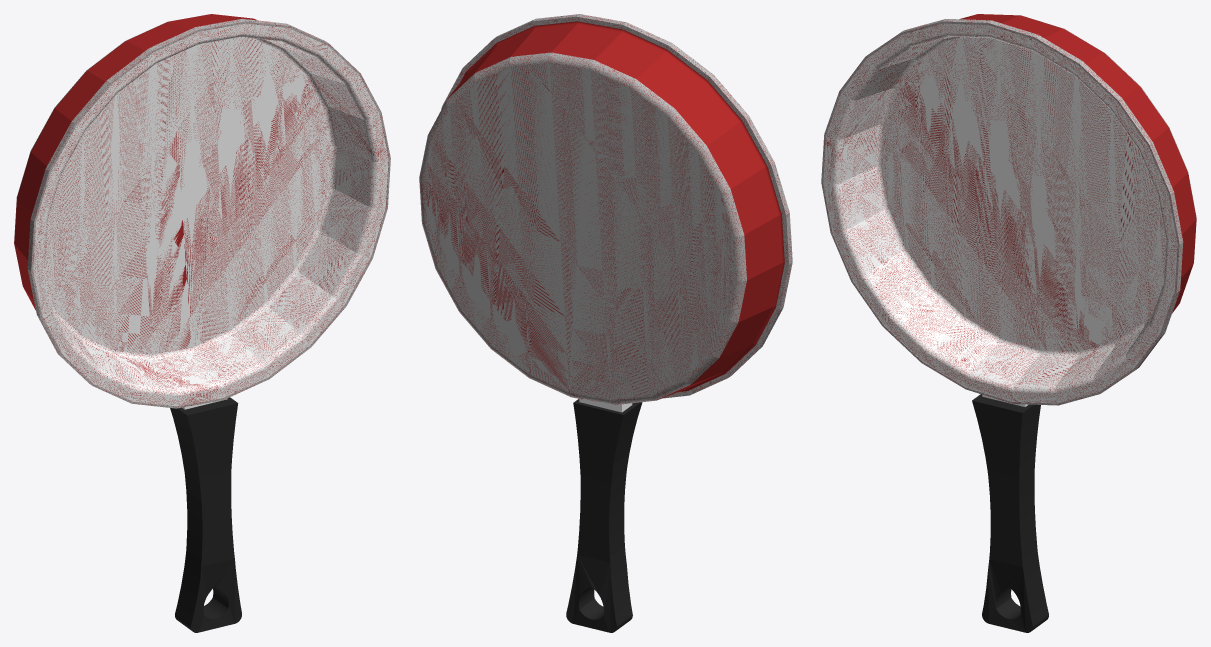
3 renders of one model, left to right at view 1: azimuth 30°, elevation 25°; view 2: azimuth 150°, elevation 25°; view 3: azimuth 330°, elevation 25°, orthographic.
Visible parts, largest first — view 1: large frying pan; view 2: large frying pan; view 3: large frying pan.
Part boxes in pixels (<box>): large frying pan: <box>14,14,390,632</box>; large frying pan: <box>419,14,792,632</box>; large frying pan: <box>821,14,1196,632</box>.
Bounding box in the file's own units: 14.14 × 22.67 × 2.54.
